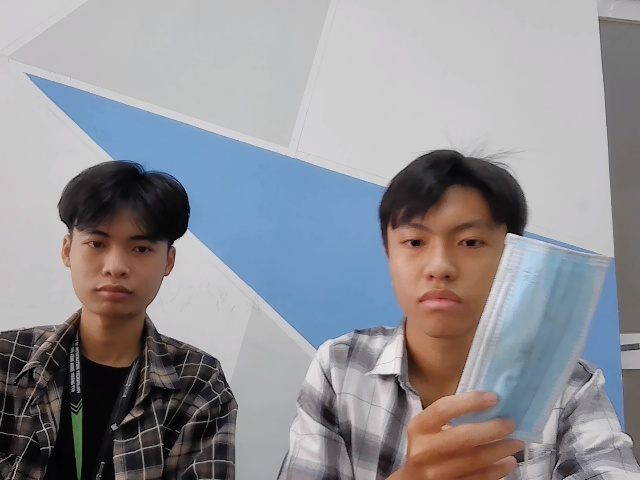human: (375, 150, 521, 331), (60, 158, 177, 315)
mask: (464, 230, 611, 445)
